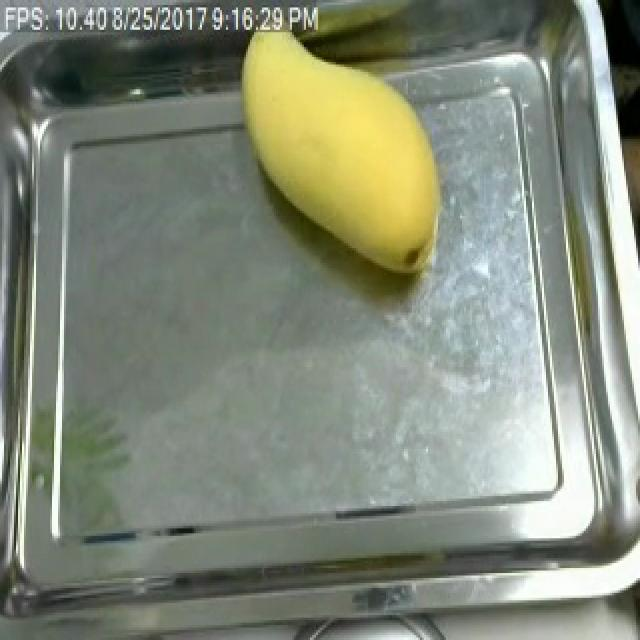fruit: (226, 20, 460, 290)
